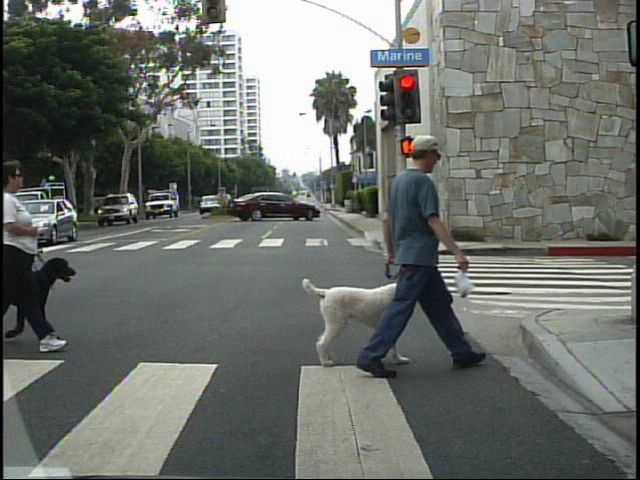person: (354, 110, 483, 377), (3, 152, 69, 356)
